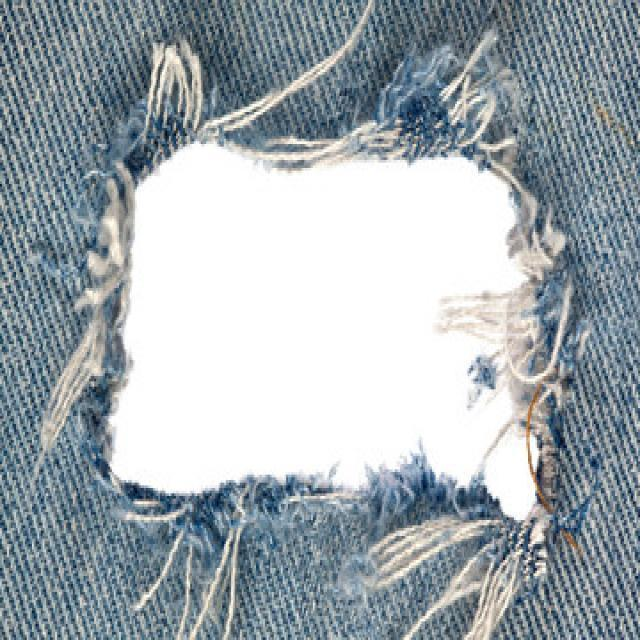Hole: (98, 30, 566, 638)
